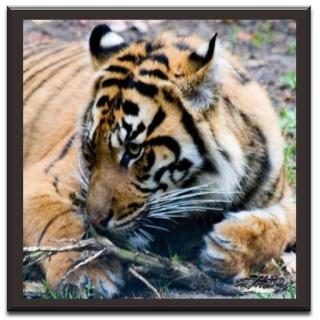Tiger: (24, 18, 296, 286)
